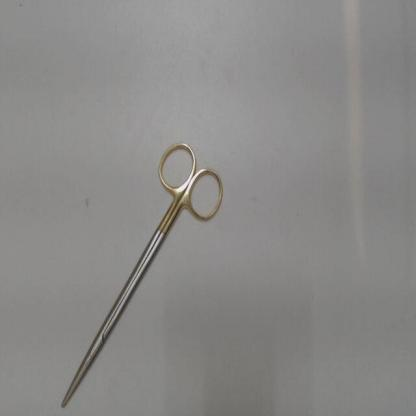7 Metzenbaum Scissors: (58, 135, 230, 414)
